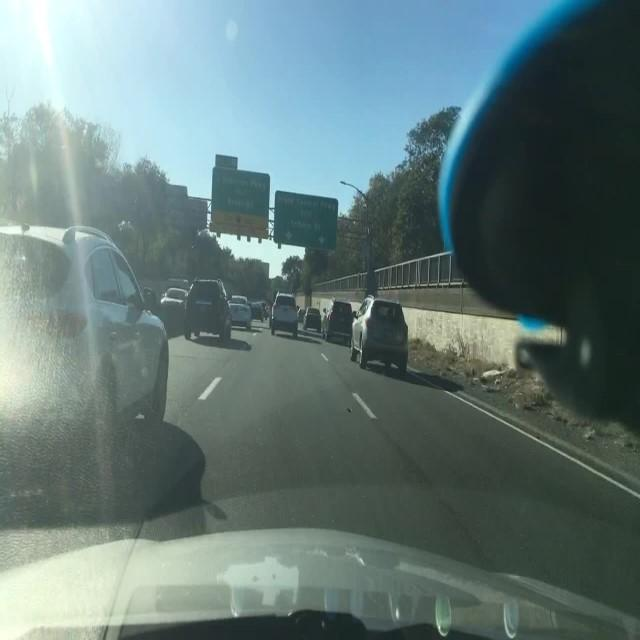normal: (306, 279, 422, 383), (157, 277, 232, 342), (228, 297, 254, 330)
